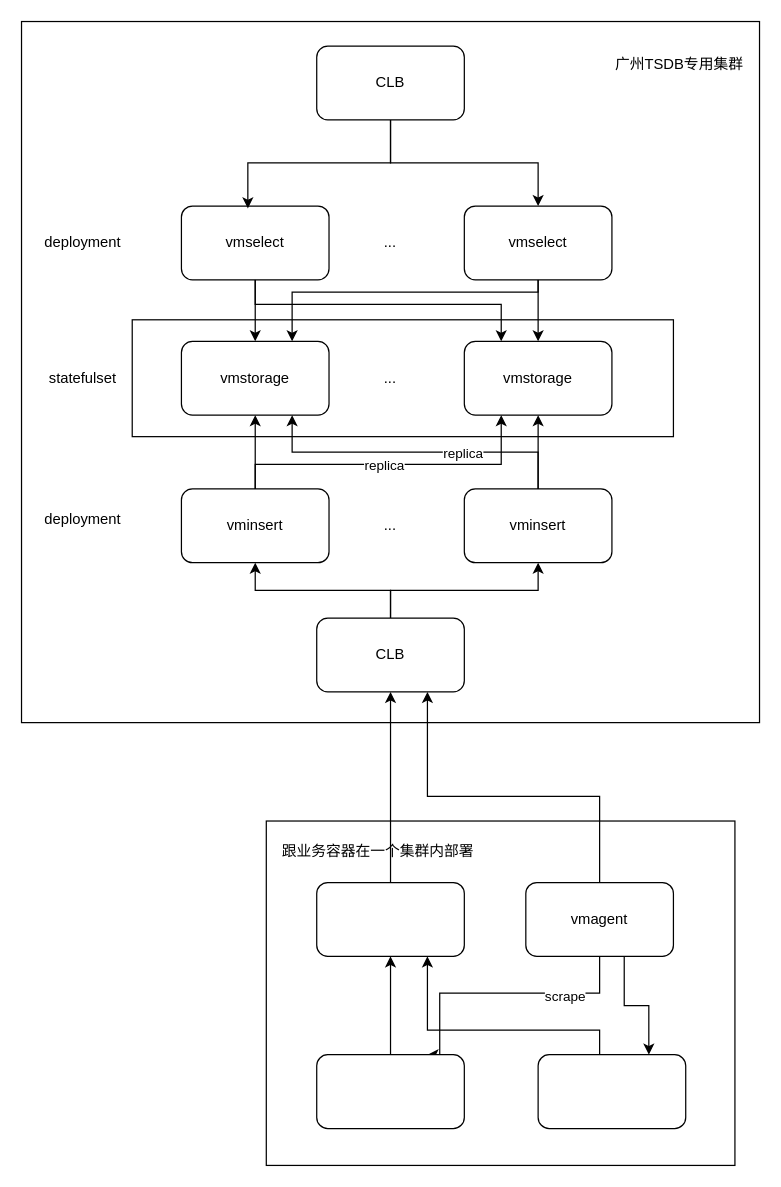
Image size: 781x1187. Some labels were removed from this diagram. The shapes that lost their labels are listed below. From the top down, each one's centre as x and y in pixels, then its label:
the point at 389,918: otel-collector
the point at 389,1091: istio-proxy
the point at 611,1091: 天幕&rpc
